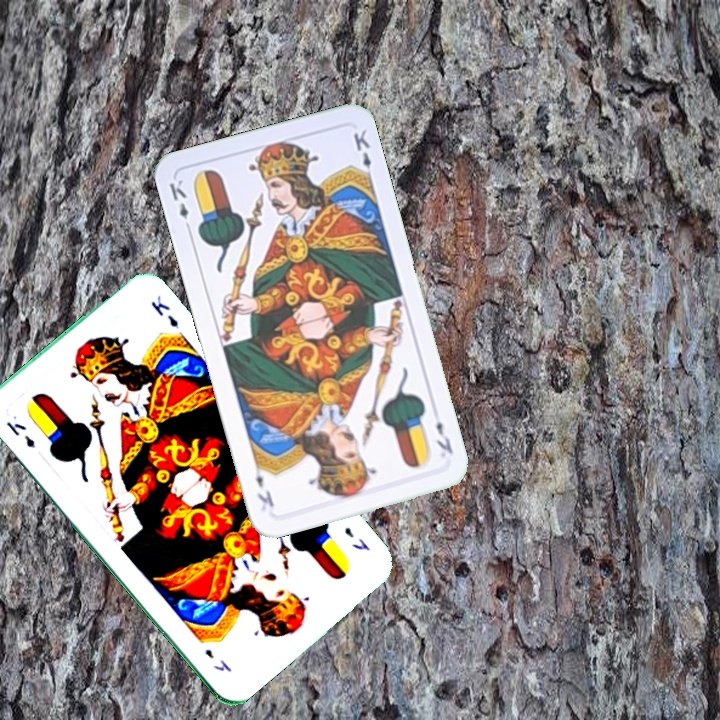EK: (165, 175, 194, 235), (2, 417, 38, 451), (340, 523, 372, 554), (432, 417, 456, 457)
